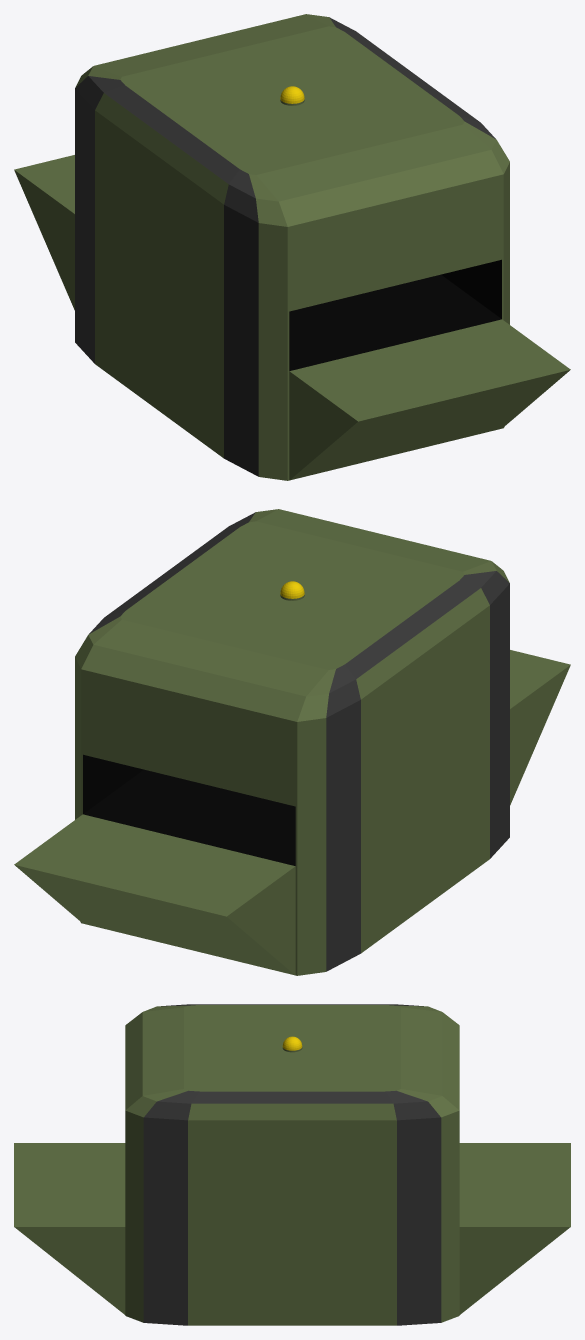
Rendered from Industrial Sander.fbx.
The picture shows the model from 3 angles, top to bottom: view 1: azimuth 30°, elevation 25°; view 2: azimuth 150°, elevation 25°; view 3: azimuth 270°, elevation 25°; orthographic projection. The views are drawn at different scales.
Parts seen in each view (by area): view 1: Industrial Sander; view 2: Industrial Sander; view 3: Industrial Sander.
Part boxes in pixels (left/top/right/bottom): Industrial Sander: left=14, top=14, right=570, bottom=480; Industrial Sander: left=14, top=509, right=570, bottom=975; Industrial Sander: left=14, top=1004, right=570, bottom=1325.
Bounding box in the file's own units: 122 × 128 × 273.
